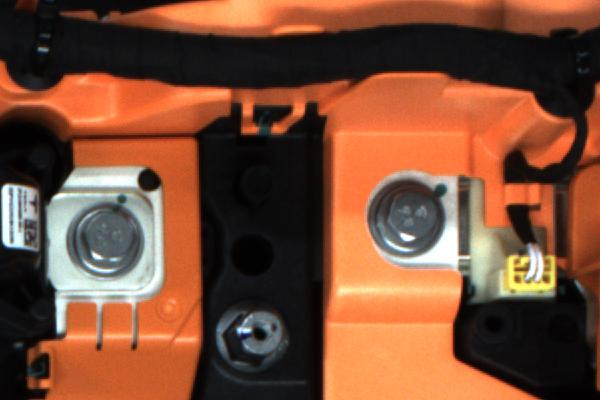nut_b: (62, 198, 159, 285), (361, 175, 457, 259)
